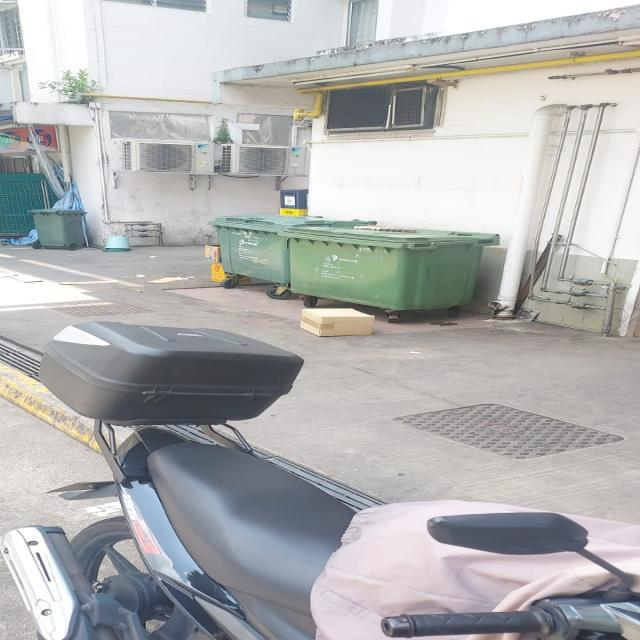bin_empty: (296, 226, 487, 320), (205, 212, 296, 286), (28, 208, 88, 249)
vehicle: (0, 322, 639, 639)
